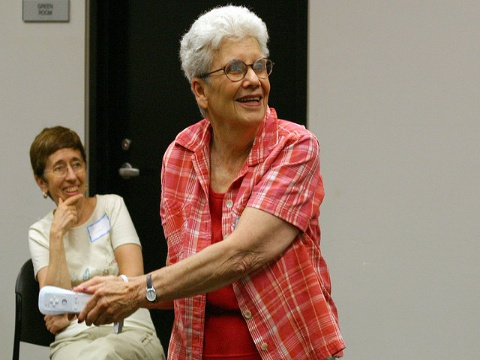hand: (78, 280, 141, 327)
